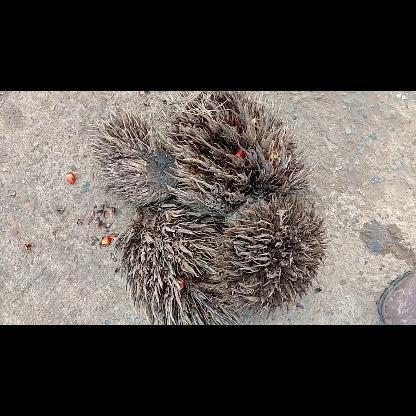Janjang kosong: (164, 90, 314, 222), (114, 202, 244, 324), (212, 192, 330, 318), (86, 106, 178, 204)
